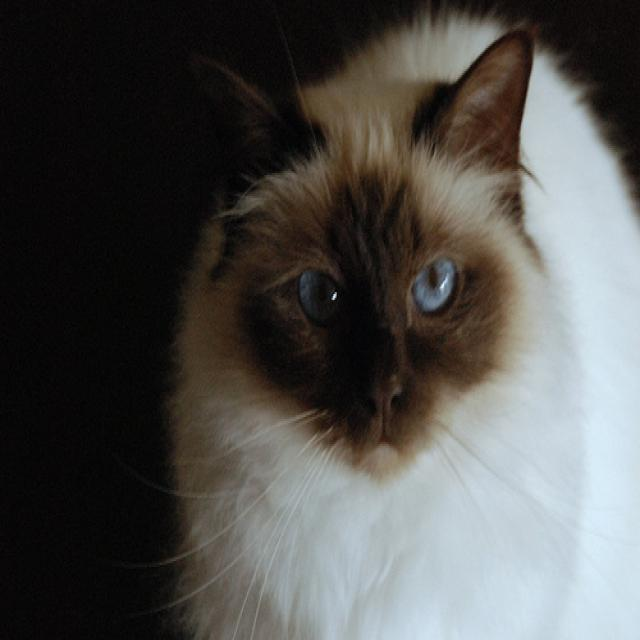Birman: (195, 25, 531, 492)
